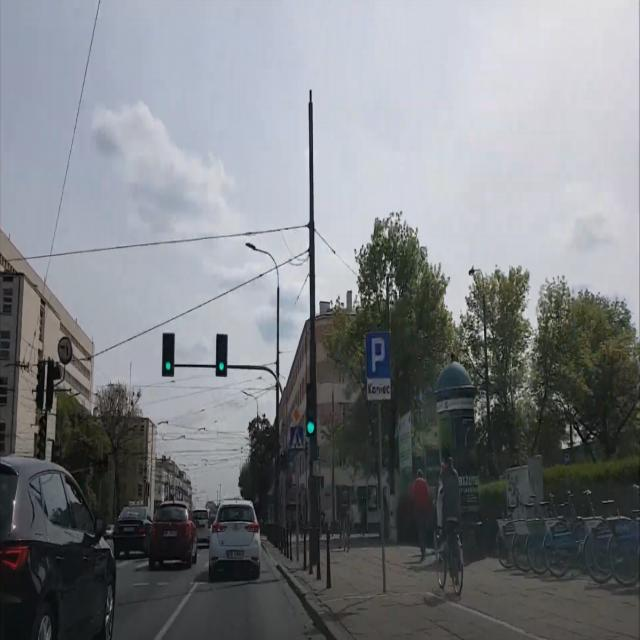Droga z pierwszenstwem: (292, 404, 302, 424)
Przejscie dla pieszych: (290, 424, 304, 452)
